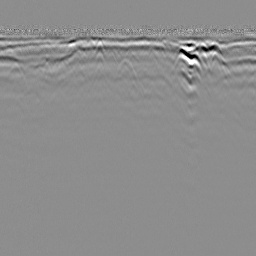cavity: (115, 56, 137, 80)
